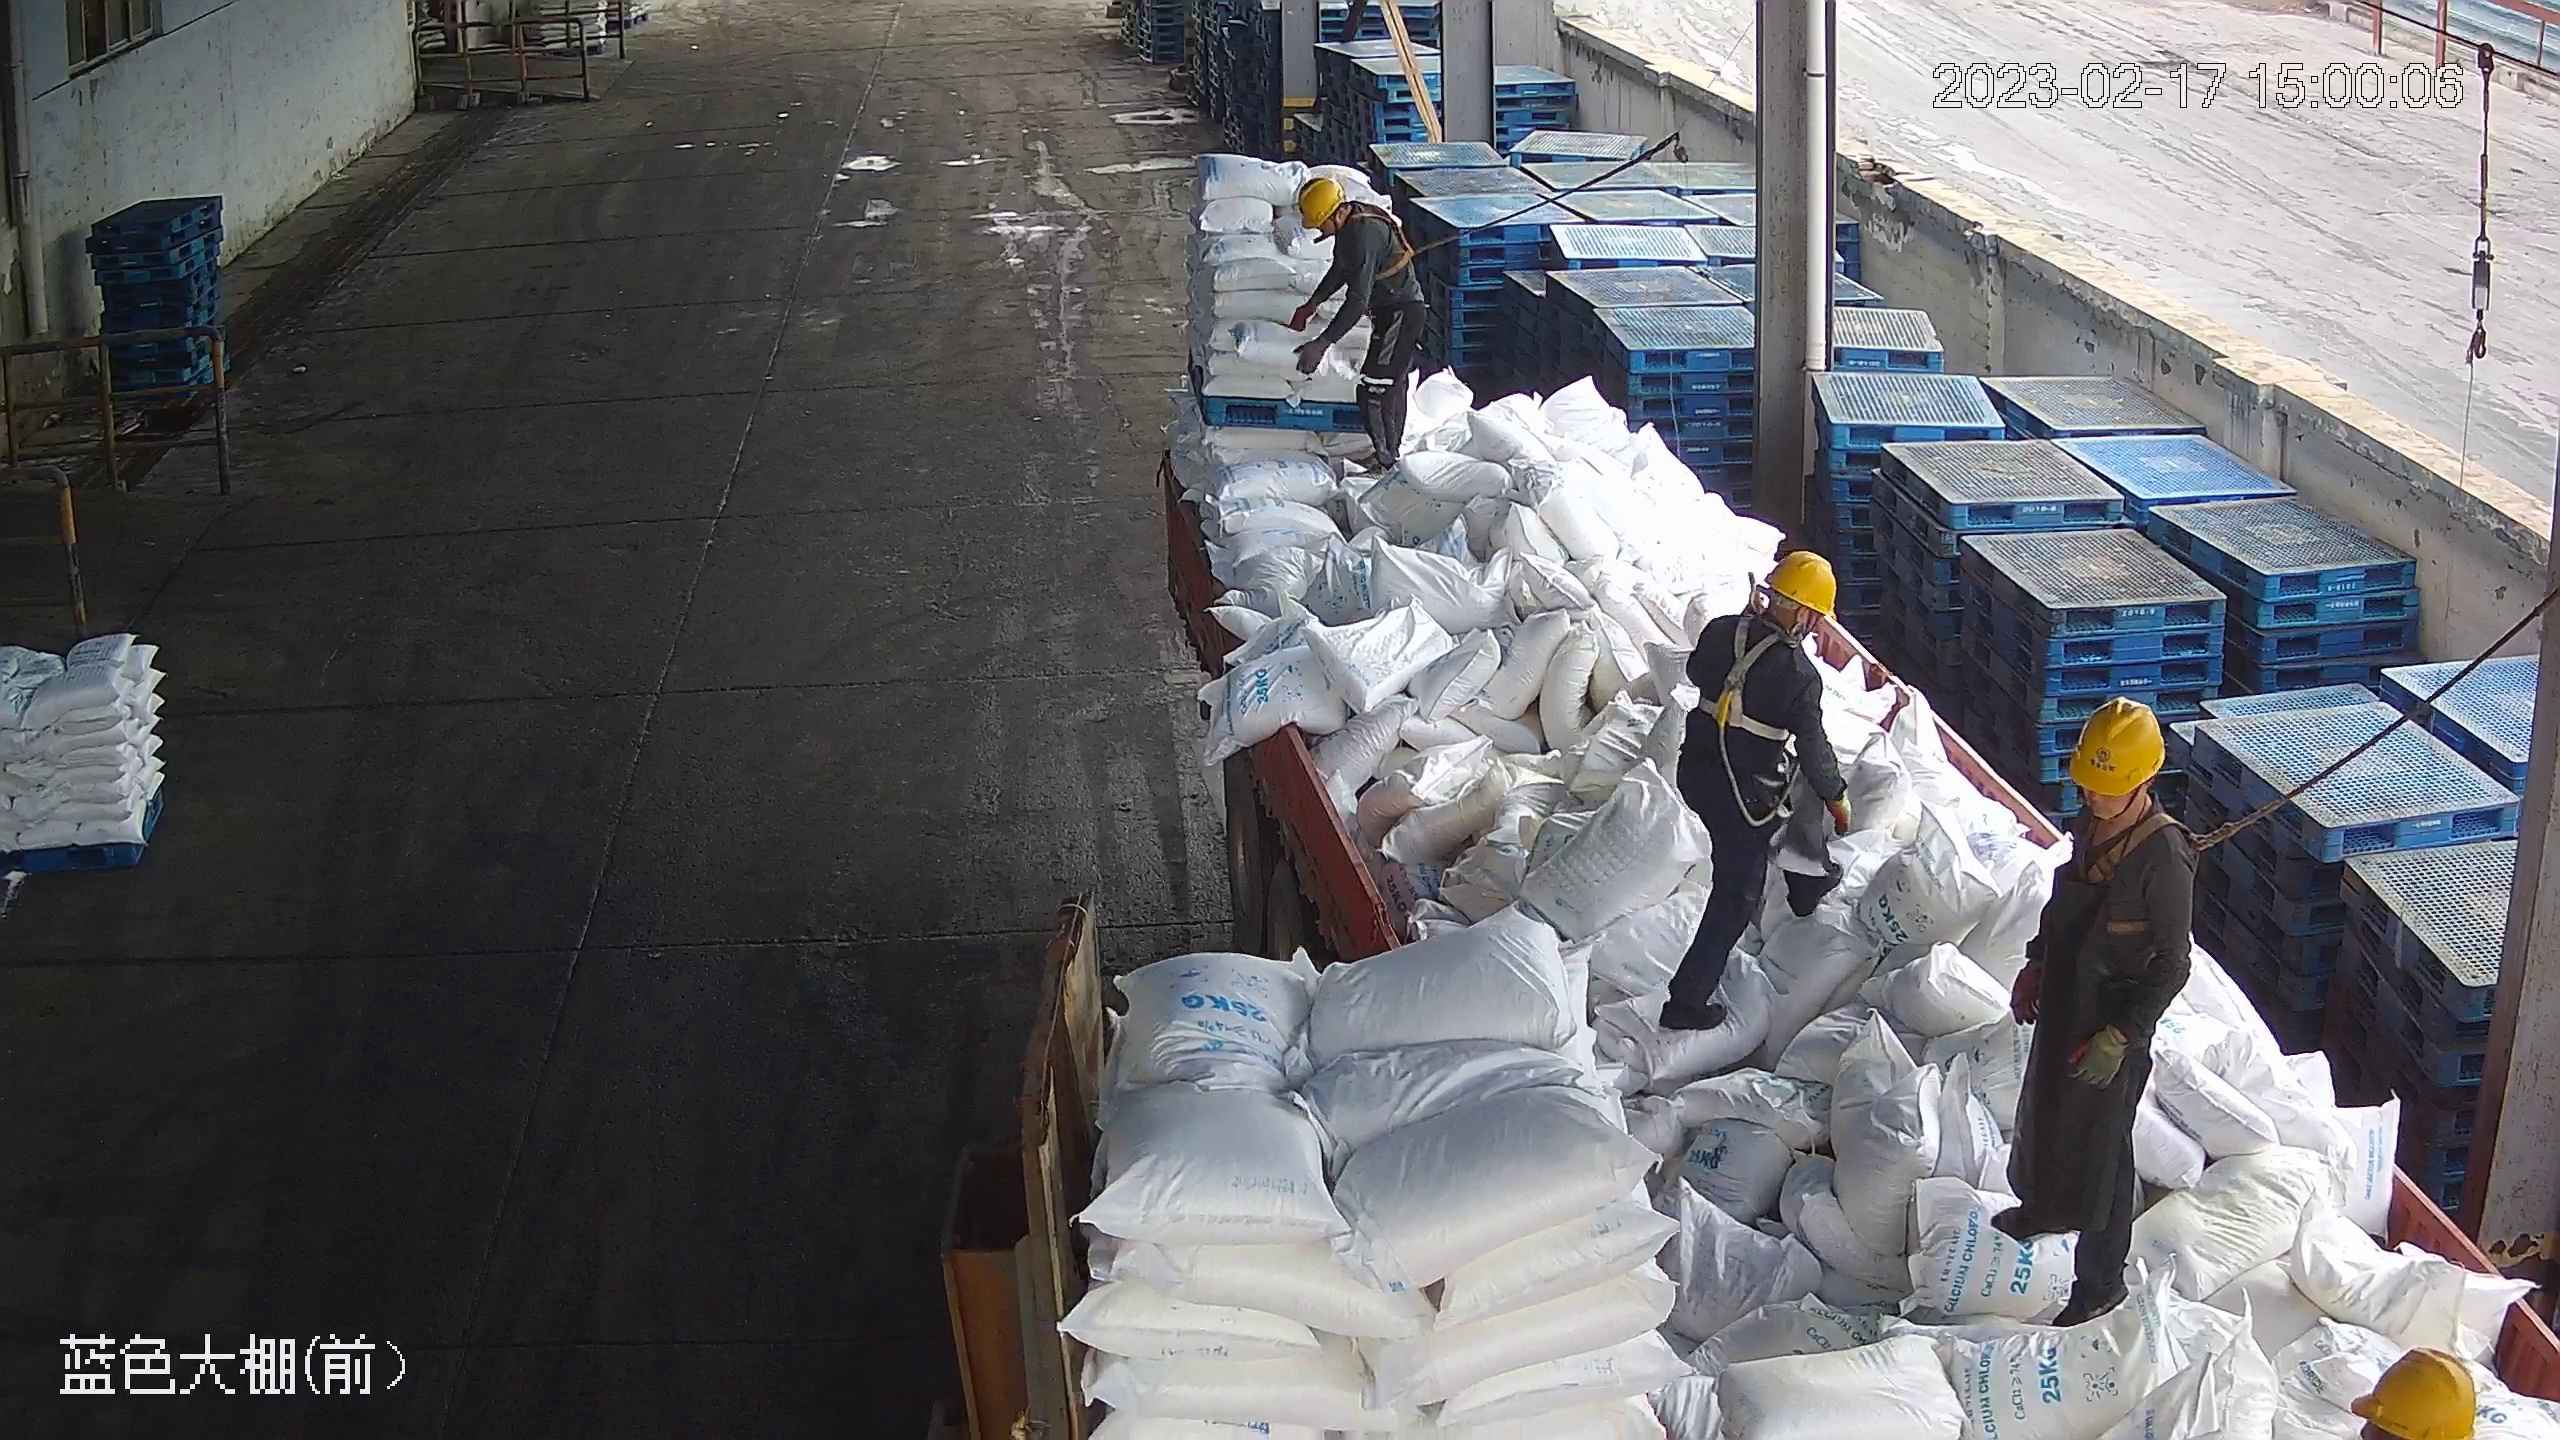belt: (2067, 798, 2236, 887), (1694, 615, 1796, 747), (1343, 202, 1421, 279)
head: (2057, 697, 2193, 895), (1697, 550, 1838, 694), (1297, 177, 1392, 251)
helmet: (2345, 1346, 2473, 1440), (2067, 696, 2164, 797), (1764, 551, 1836, 619), (1299, 177, 1345, 226)
people: (1984, 696, 2200, 1324), (1656, 552, 1854, 1033), (1289, 177, 1422, 469)
truck: (1159, 395, 2560, 1440)
